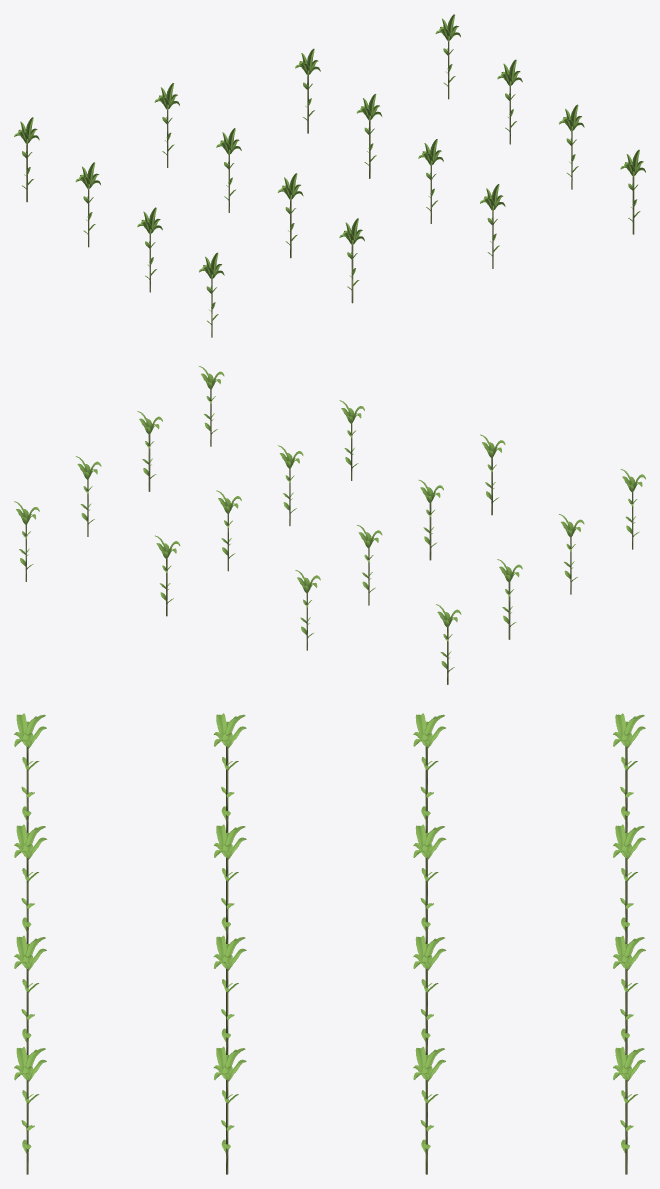
The model's file is sugarcane3.fbx.
3 renders of one model, top to bottom at view 1: azimuth 30°, elevation 25°; view 2: azimuth 150°, elevation 25°; view 3: azimuth 270°, elevation 25°, orthographic. The views are drawn at different scales.
Visible parts, largest first — view 1: sugarcane3; view 2: sugarcane3; view 3: sugarcane3.
Part boxes in pixels (<box>): sugarcane3: <box>14,14,645,337</box>; sugarcane3: <box>14,366,645,684</box>; sugarcane3: <box>14,713,645,1174</box>.
Size of the model in its own units: 700 by 122 by 533.
